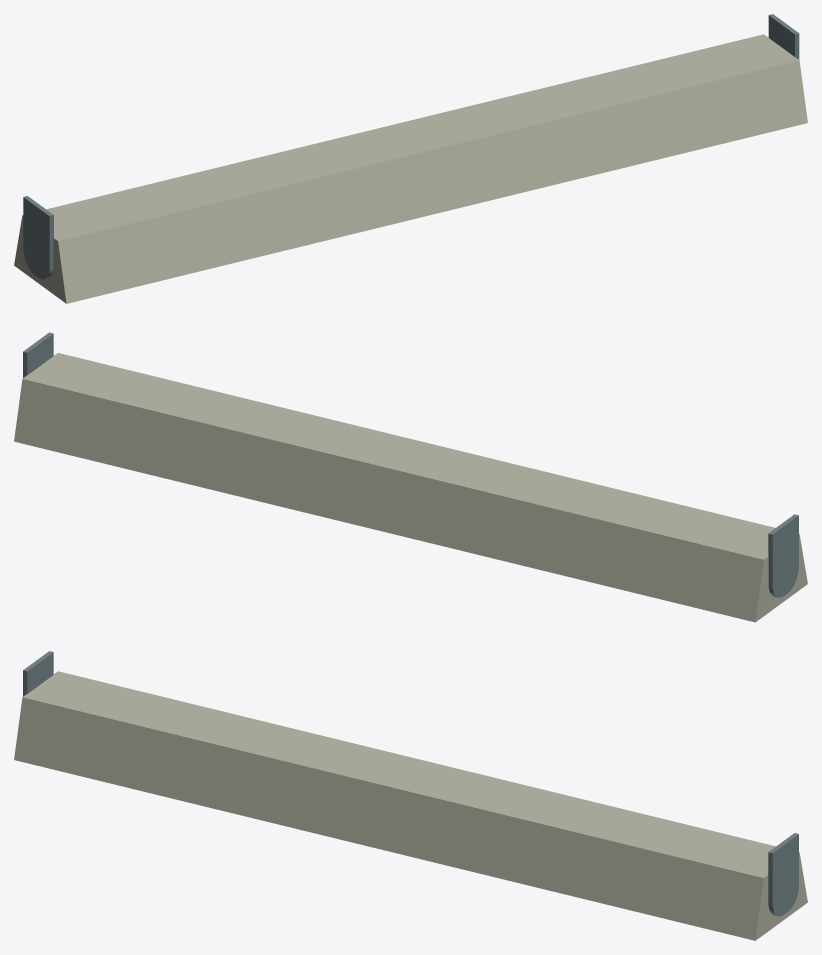
File: Office Light.fbx
3 renders of one model, top to bottom at view 1: azimuth 30°, elevation 25°; view 2: azimuth 150°, elevation 25°; view 3: azimuth 330°, elevation 25°, orthographic.
Parts seen in each view (by area): view 1: pCube54; view 2: pCube54; view 3: pCube54.
Part boxes in pixels (x1,y1,x2,y2): pCube54: (14,14,807,303); pCube54: (14,332,807,622); pCube54: (14,651,807,940).
Bounding box in the file's own units: 3.18 × 0.3206 × 0.3856.
